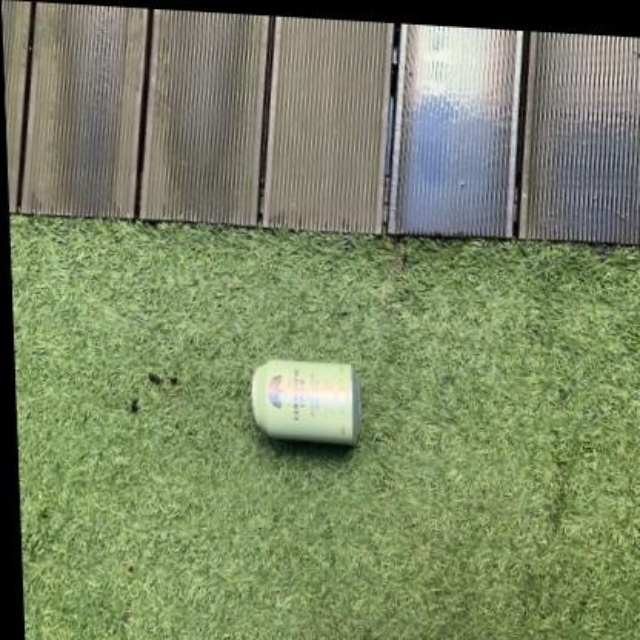trash: (252, 360, 360, 443)
